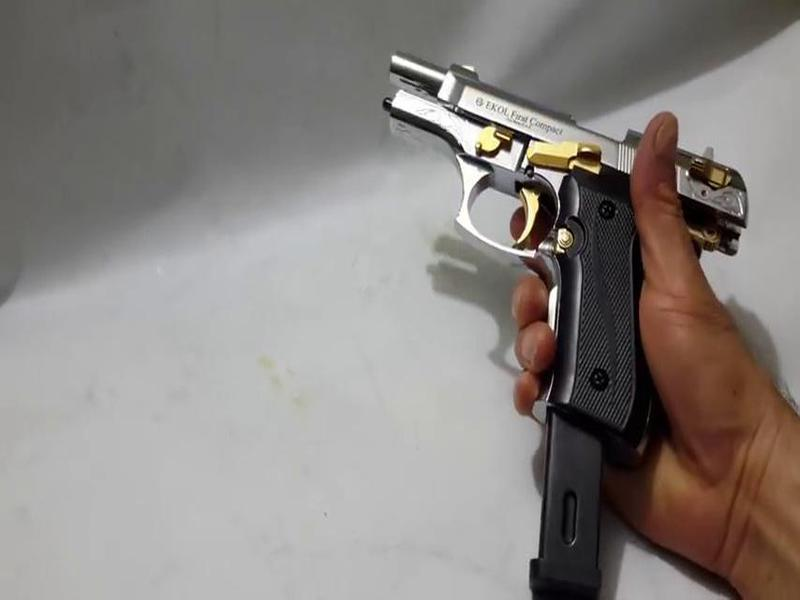Pistola: (372, 23, 767, 453)
